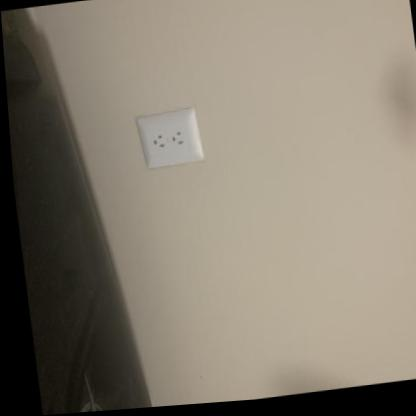OUTLET: (134, 107, 205, 171)
